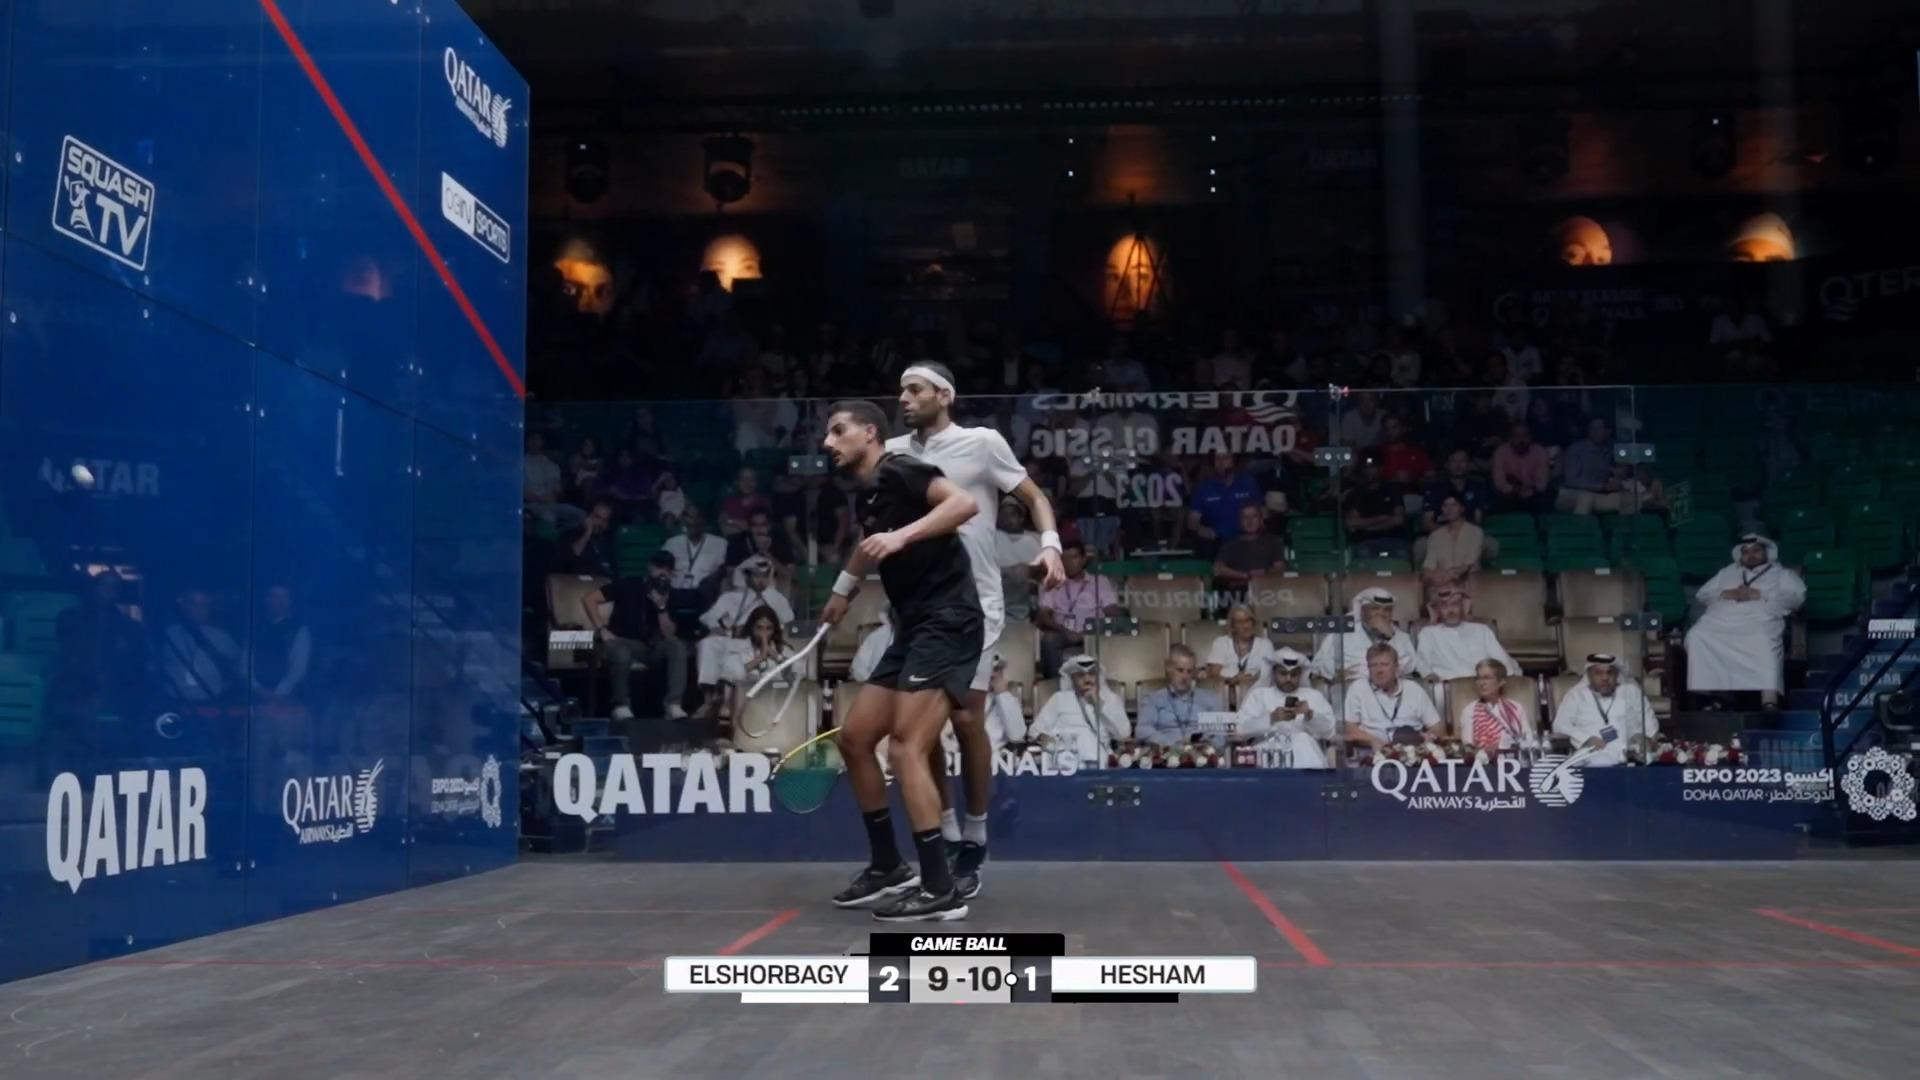Squash-Ball: (58, 447, 109, 505)
